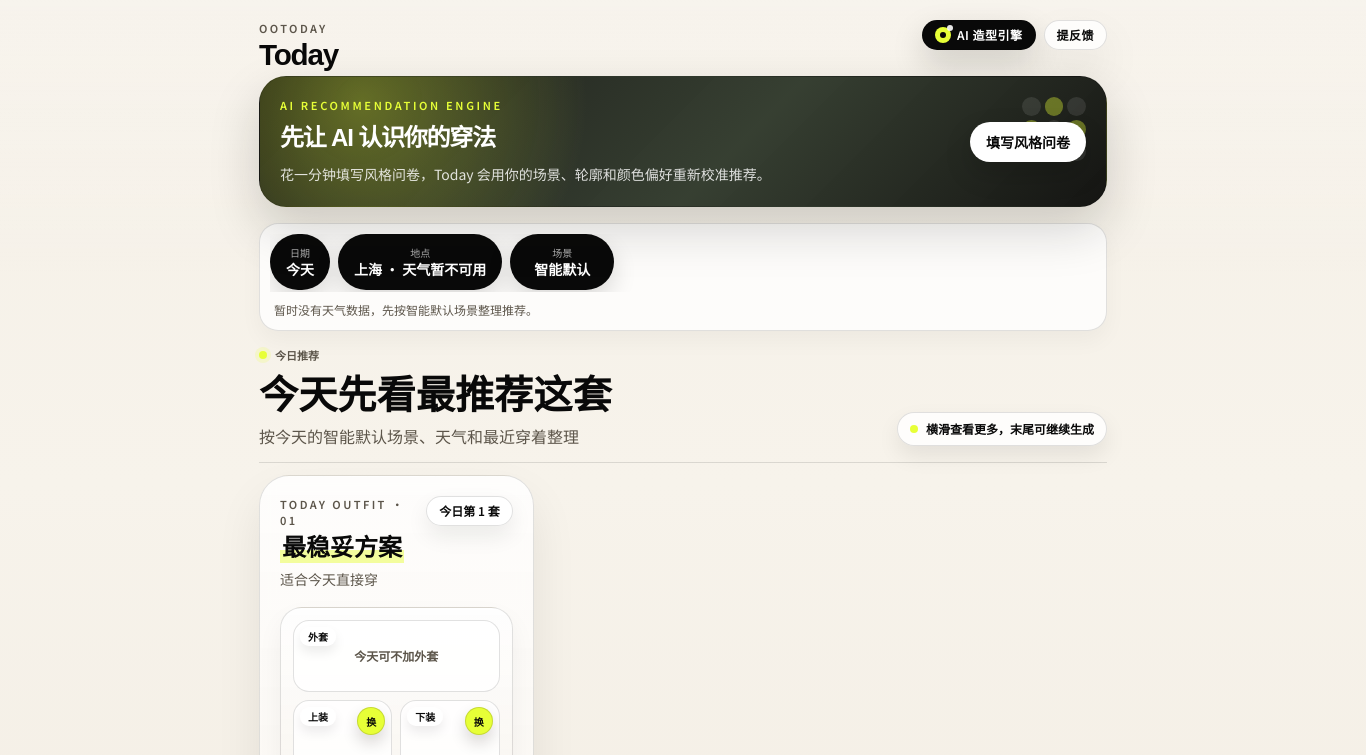
Test: TodayPage › opens the city form from the context bar
This screenshot has width=1366, height=755.
Click the button with aria-label "地点：上海 · 天气暂不可用": (420, 262) [338,234,502,290]
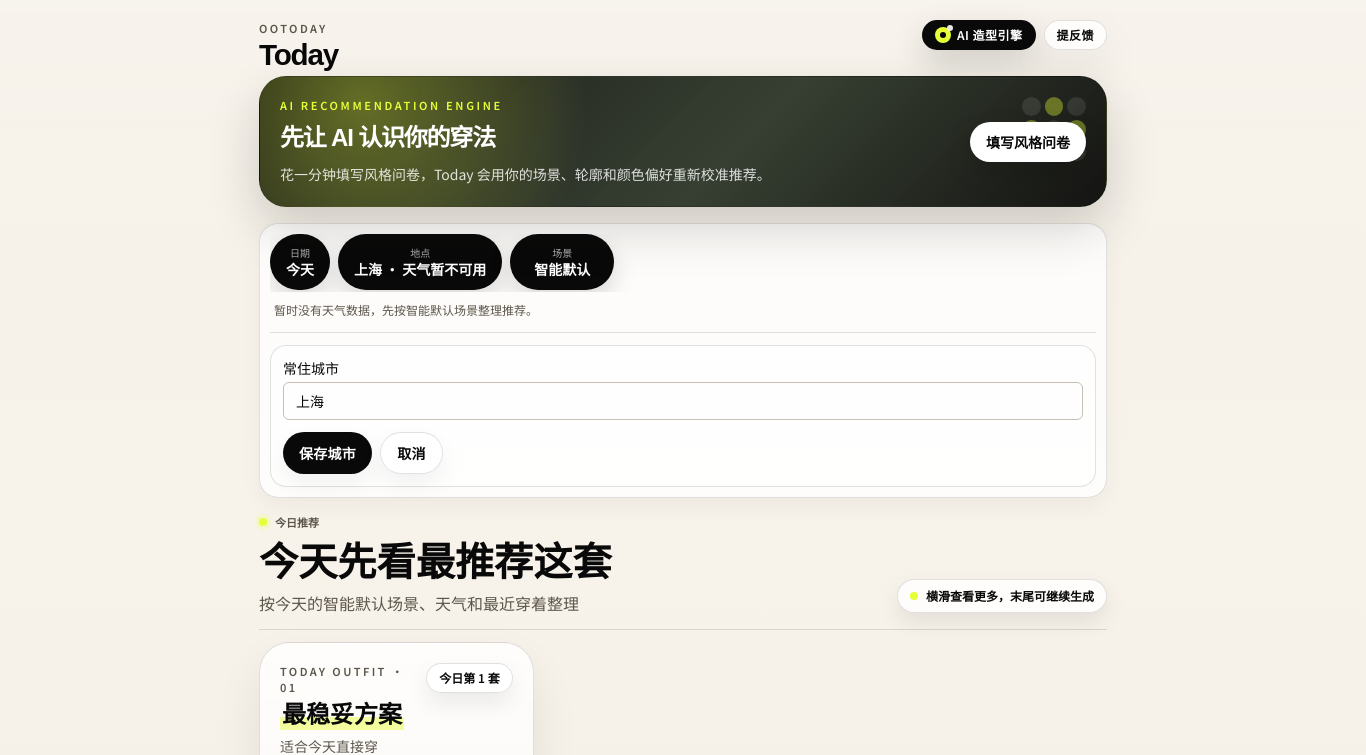
expect the field labelled "常住城市" is shown: met, box [283,382,1083,420]
